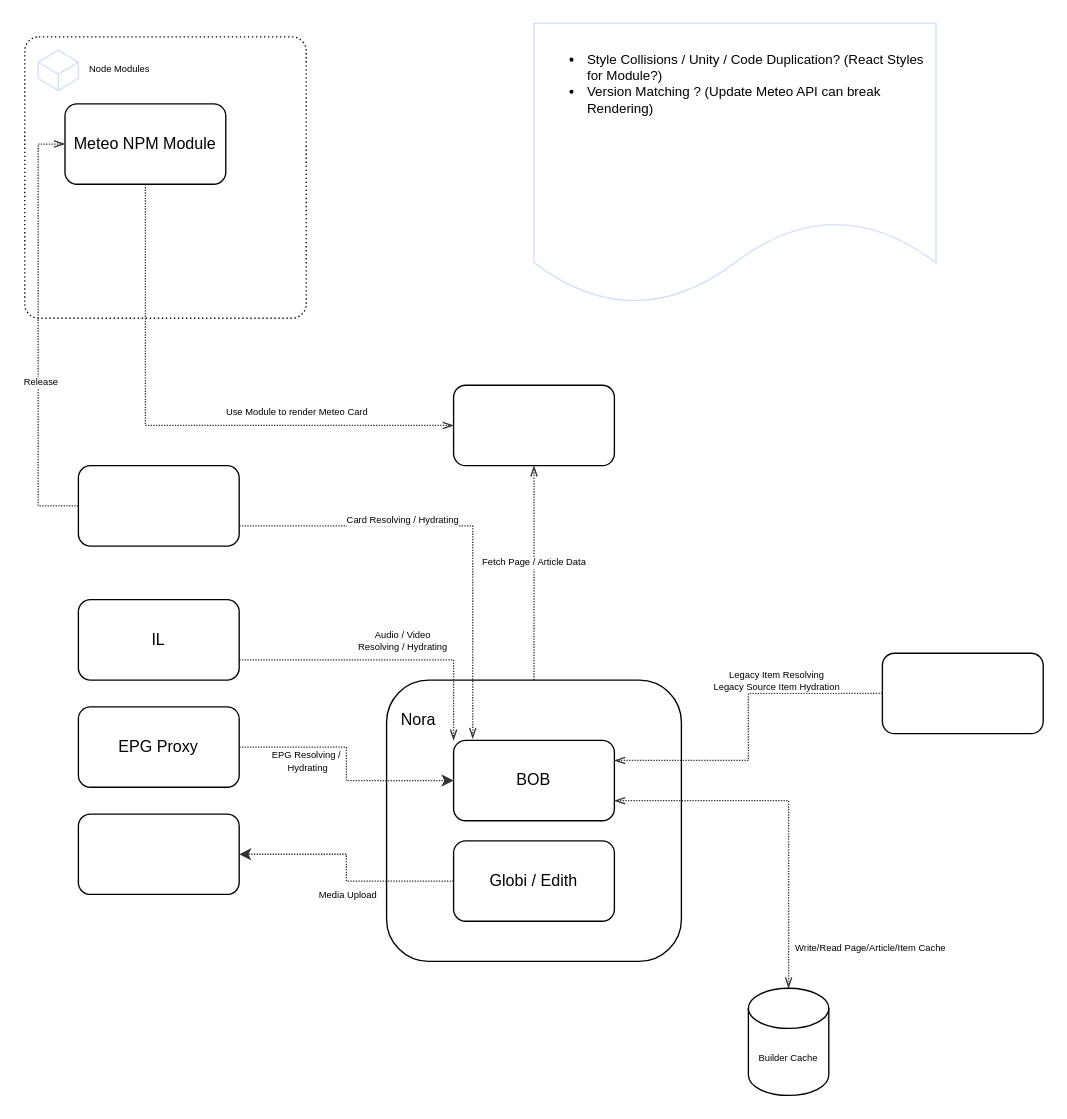
Image size: 1067x1119. Some labels were removed from this diagram. Each missing label, with the centre of its shape:
"(Legacy) CMS" goes at (962,693).
"Meteo Service" goes at (158,505).
"Rendero" goes at (533,425).
"Rokka" goes at (158,853).
